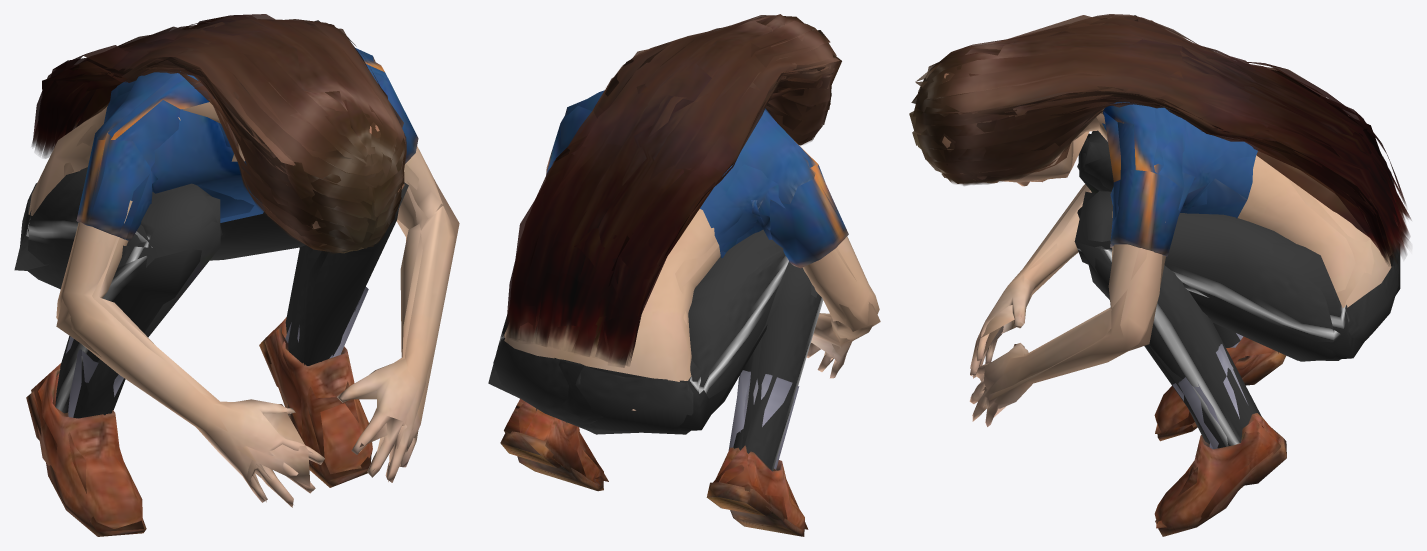
File: frozen-5.glb
The picture shows the model from 3 angles, left to right: view 1: azimuth 30°, elevation 25°; view 2: azimuth 150°, elevation 25°; view 3: azimuth 270°, elevation 25°; orthographic projection. The views are drawn at different scales.
Visible parts, largest first — view 1: near, far; view 2: near, far; view 3: near, far.
Part boxes in pixels (box(x1,y1,x2,y2)): near: box(20, 18, 454, 536); far: box(14, 14, 459, 531); near: box(493, 15, 879, 536); far: box(488, 14, 880, 529); near: box(914, 14, 1408, 536); far: box(909, 15, 1411, 528).
Size of the model in its own units: 0.5208 by 0.6252 by 0.6431.
Materials: 2 (2 with a texture image).
